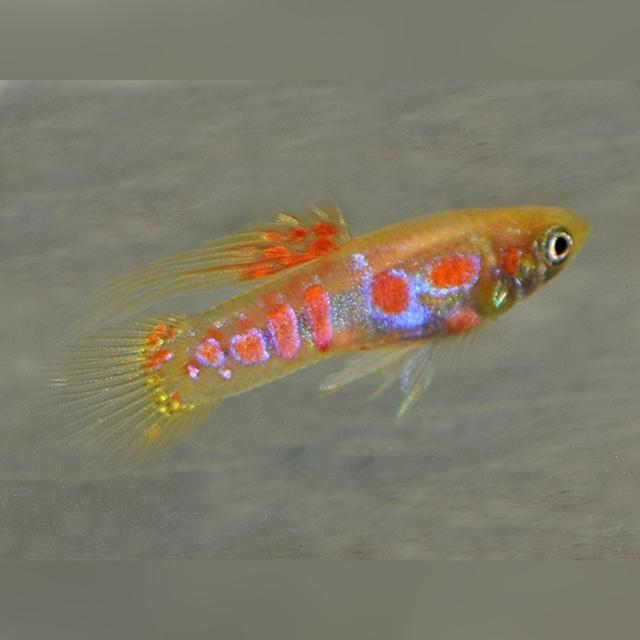Sirip Anal: (298, 298, 406, 419), (522, 170, 614, 274)
Sirip Ekor: (5, 315, 218, 493)
Sirip Perut: (376, 315, 488, 425)
Sirip Punggung: (29, 174, 375, 350)
